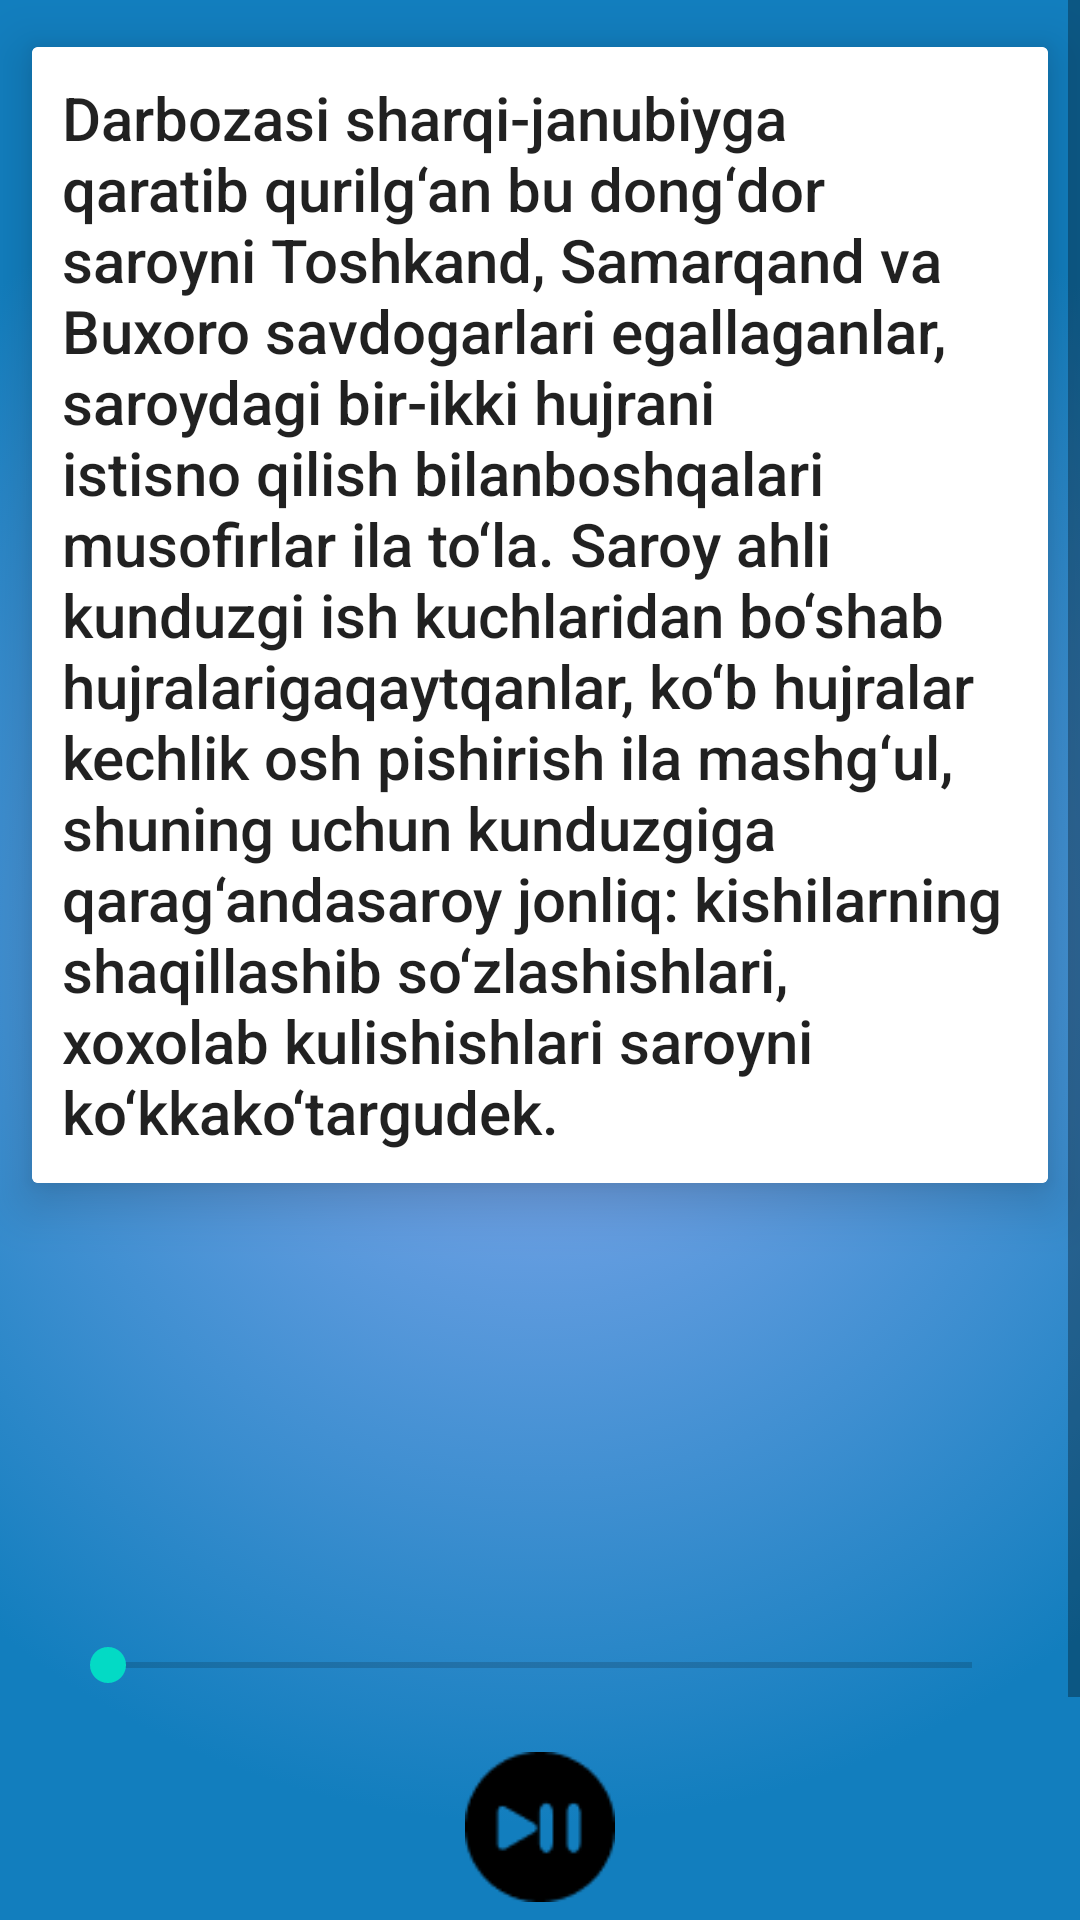

Icons on this 1080 x 1920 Android screen, each with the point to tap as [x,y]:
play: [540,1827]
